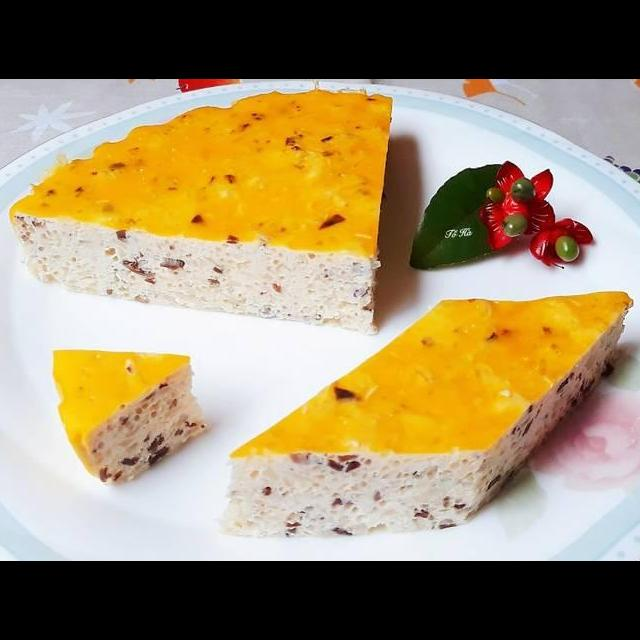cha: (212, 287, 635, 543), (3, 84, 395, 338), (49, 345, 214, 489)
